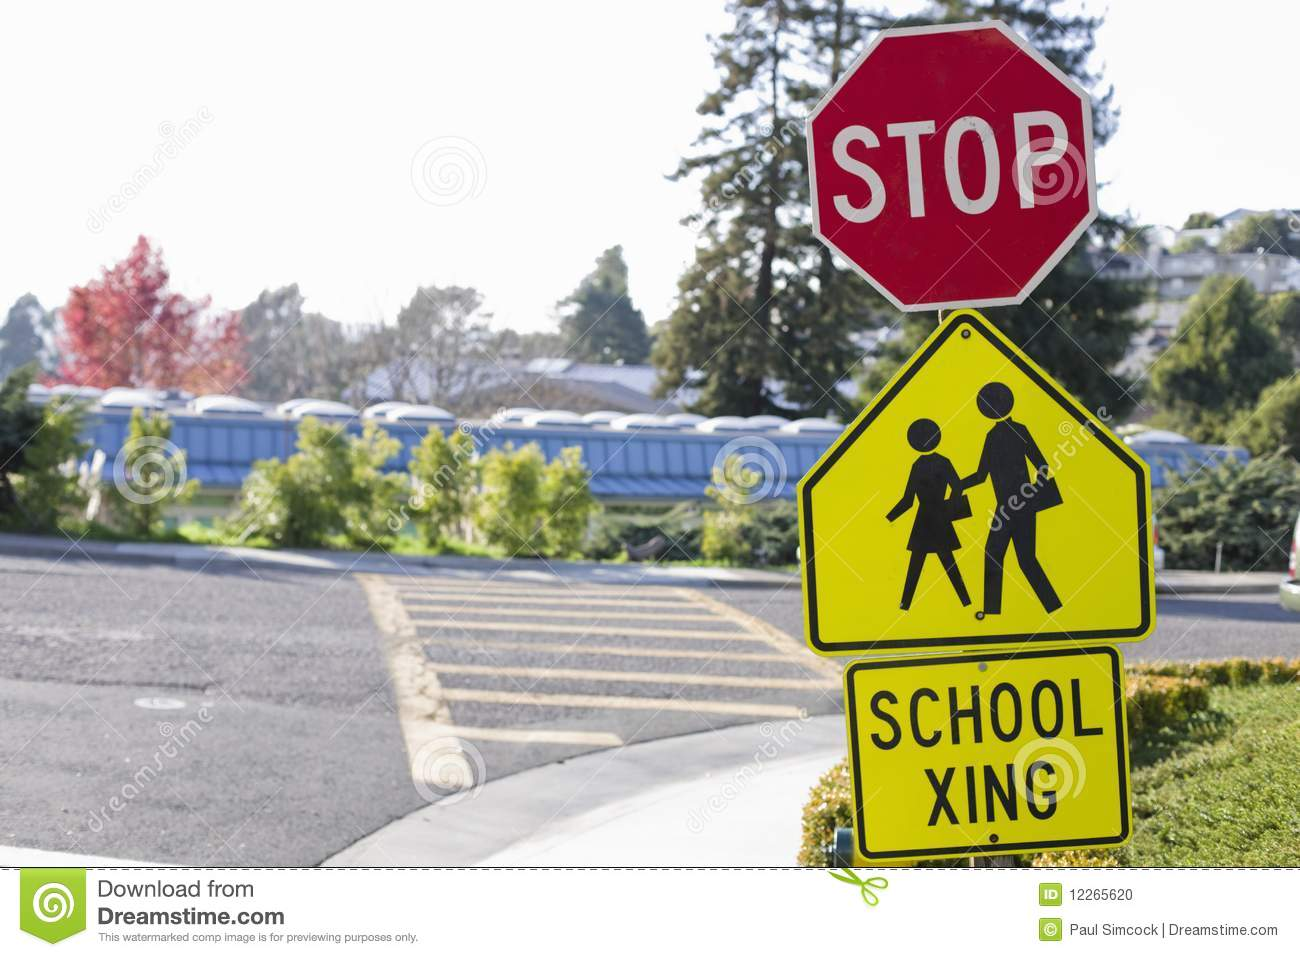slow: (791, 312, 1160, 649)
stop: (804, 20, 1103, 310)
